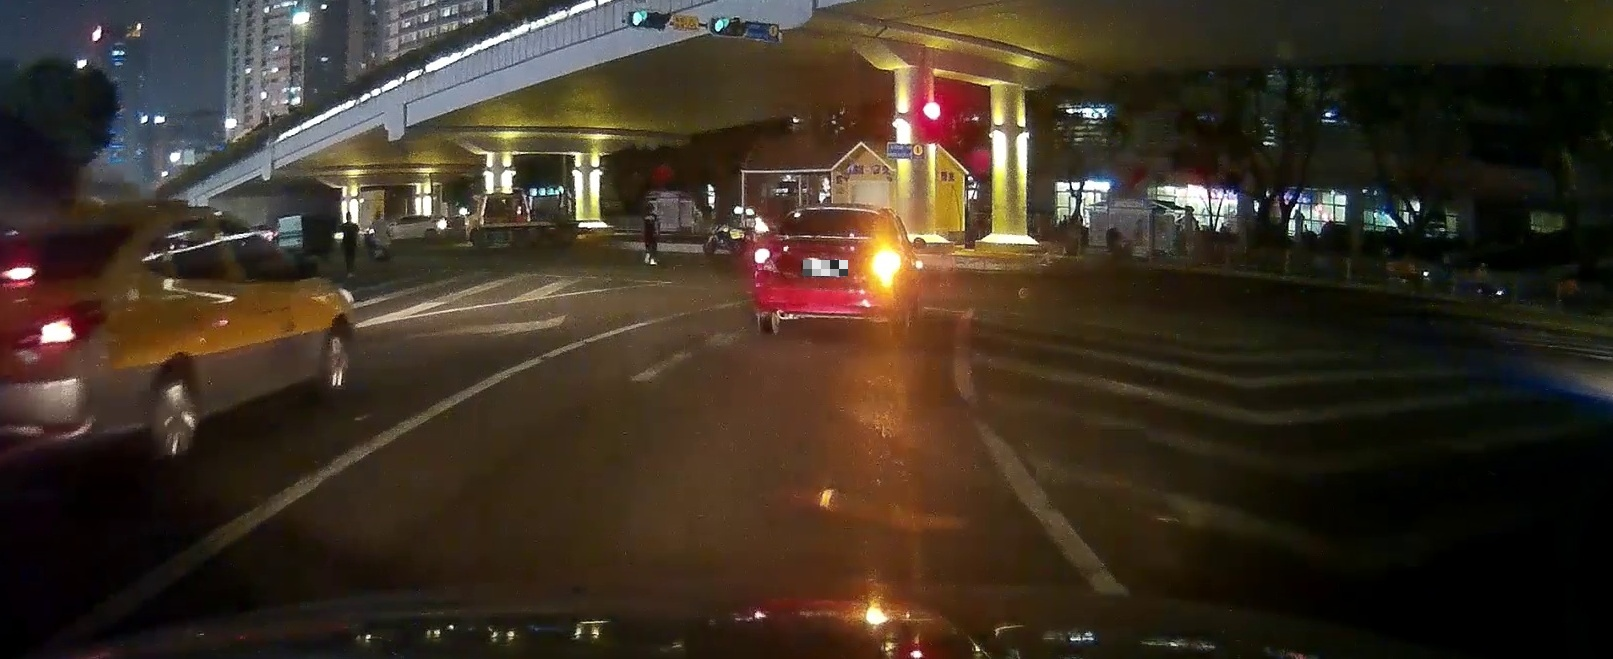L_light: (753, 245, 782, 269)
R_light: (864, 248, 898, 279)
T_light: (817, 207, 843, 212)
night-right: (751, 203, 901, 336)
plate_1: (803, 260, 848, 276)
